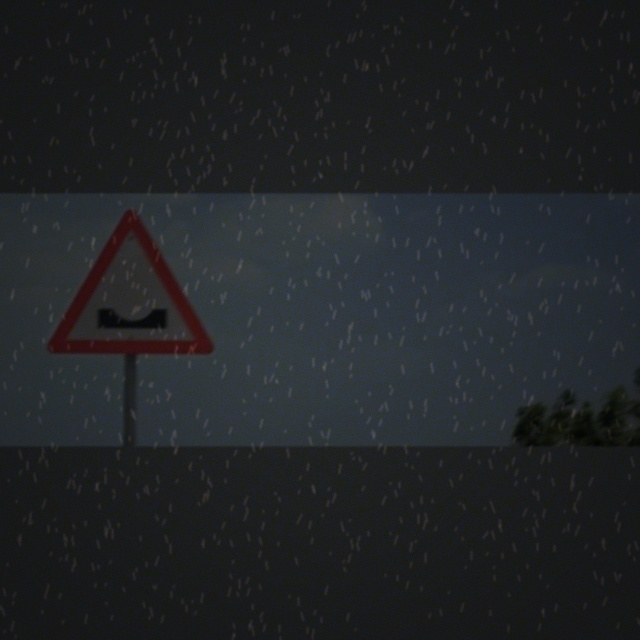Dangerous_Dip: (52, 210, 215, 355)
